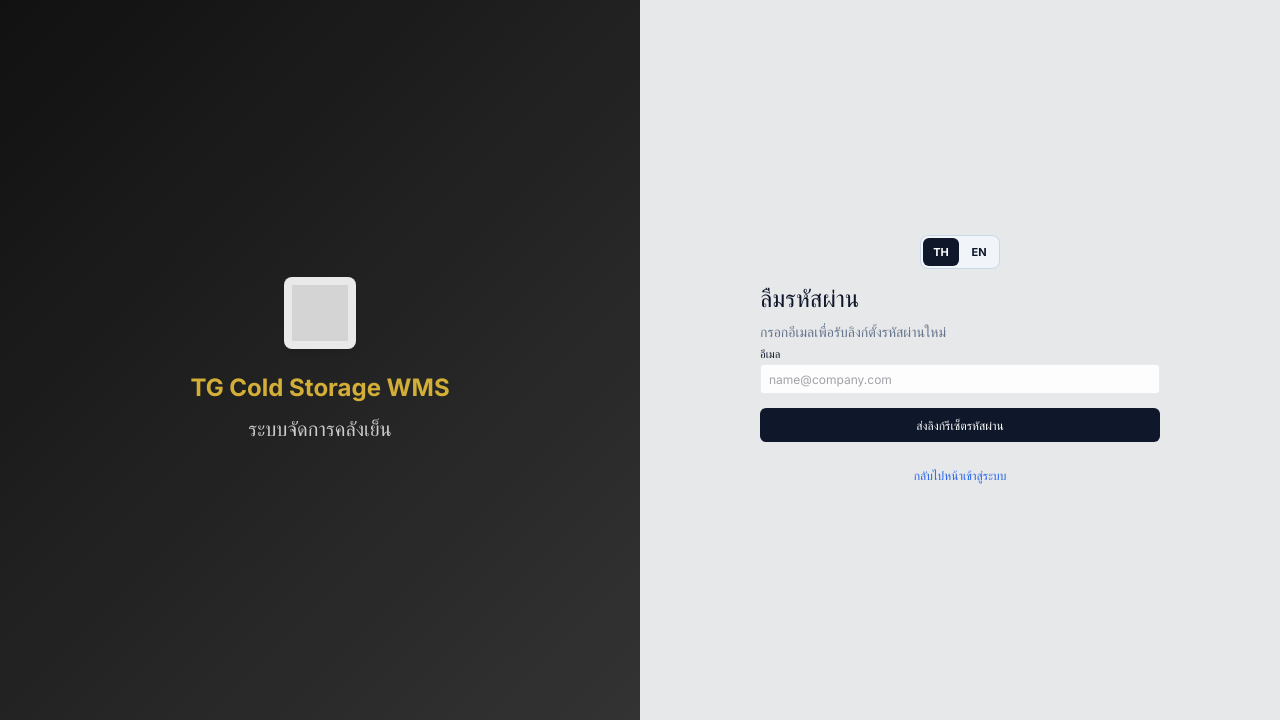
Scenario: UX-AUTH-1 auth and user settings › forgot password submit shows generic success message
In the field with test id "forgot-password-email-input": (960, 379) left=760, top=364, right=1160, bottom=394, type "user@example.com"
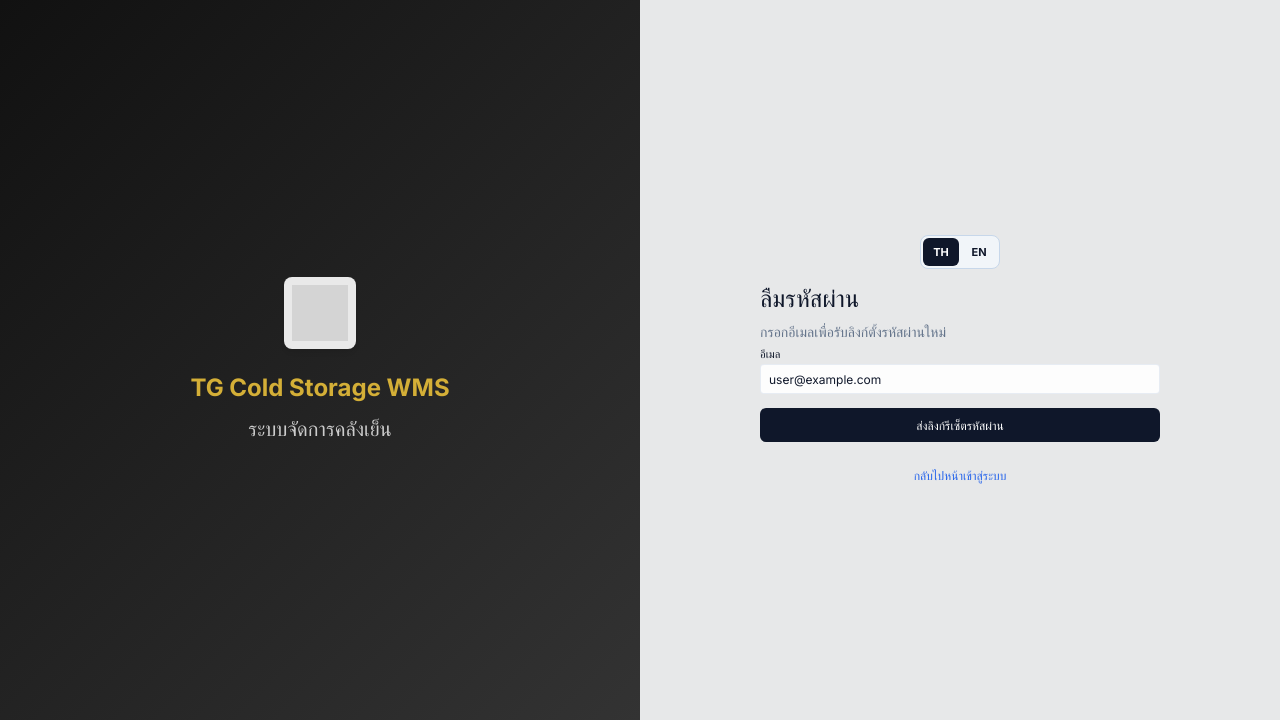
Click the button with test id "forgot-password-submit-button": click(960, 425) left=760, top=408, right=1160, bottom=442
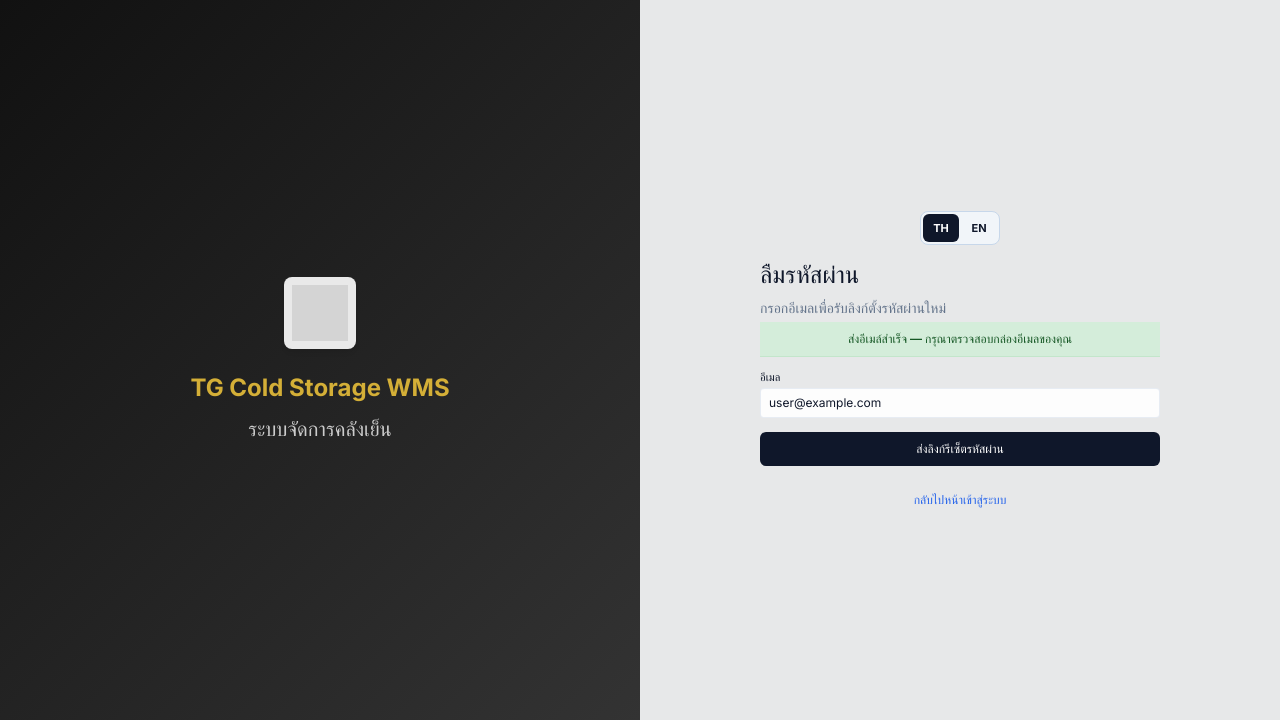
Expected: the message "ส่งอีเมล์สำเร็จ — กรุณาตรวจสอบกล่องอีเมลของคุณ" is shown, left=760, top=322, right=1160, bottom=357
